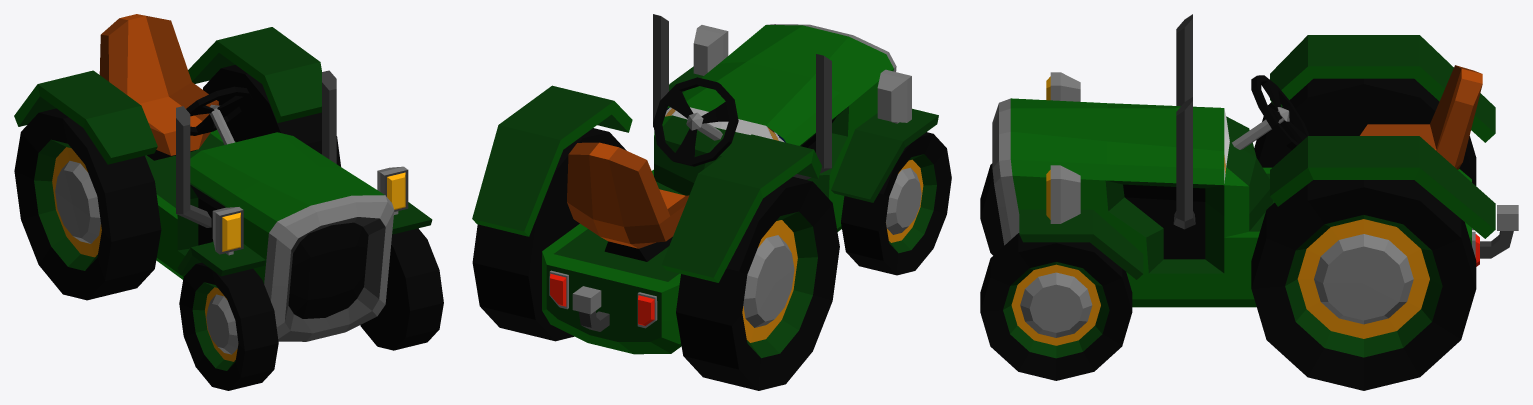
The model's file is Traktor_2.fbx.
3 renders of one model, left to right at view 1: azimuth 30°, elevation 25°; view 2: azimuth 150°, elevation 25°; view 3: azimuth 270°, elevation 25°, orthographic. The views are drawn at different scales.
Parts seen in each view (by area): view 1: Tracktor_2, Tracktor_2_BW, Tracktor_2_FW; view 2: Tracktor_2, Tracktor_2_BW, Tracktor_2_FW; view 3: Tracktor_2, Tracktor_2_BW, Tracktor_2_FW.
Boxes of the visible parts, box(x1,y1,x2,y2) form: Tracktor_2: box(14, 14, 432, 341); Tracktor_2_BW: box(14, 65, 340, 300); Tracktor_2_FW: box(179, 228, 443, 390); Tracktor_2: box(472, 14, 938, 354); Tracktor_2_BW: box(472, 128, 839, 390); Tracktor_2_FW: box(841, 132, 951, 275); Tracktor_2: box(992, 14, 1518, 307); Tracktor_2_BW: box(1251, 78, 1476, 390); Tracktor_2_FW: box(980, 163, 1132, 380).
Size of the model in its own units: 413 by 388 by 707.
1 material, 1 textured.
